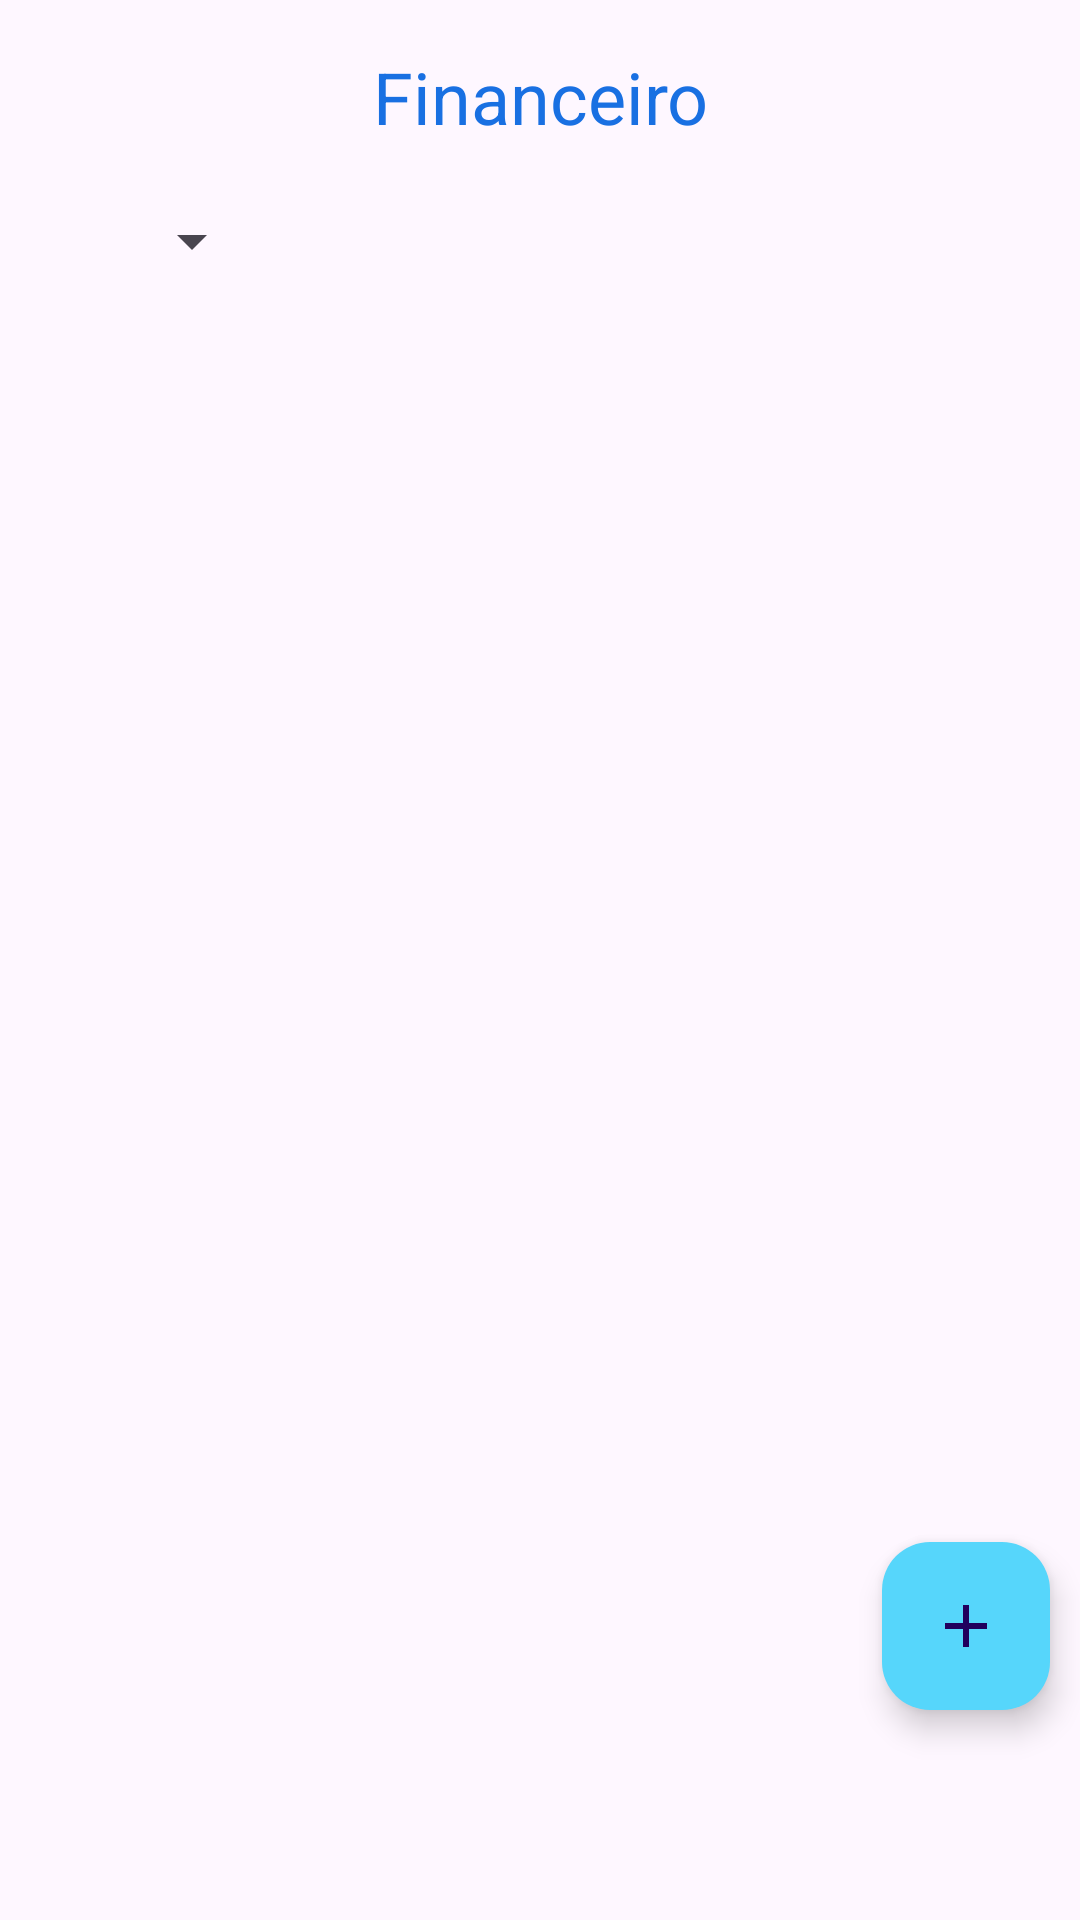

Point at icon controls on the screen. Image size 1080 × 1920, points as [x,y].
add: [966,1626]
